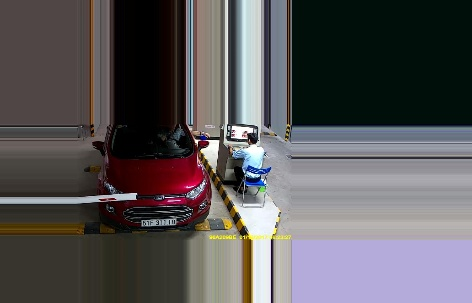plate: (140, 215, 179, 227)
